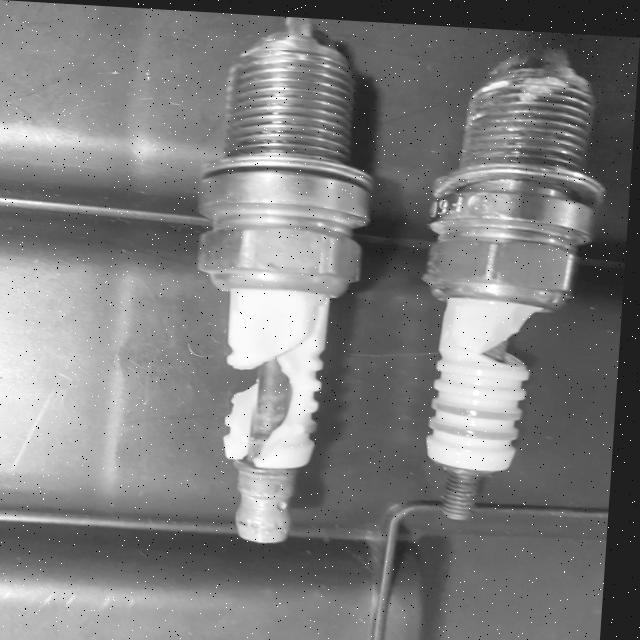damaged_spark-plug: (163, 9, 393, 581), (397, 27, 626, 537)
